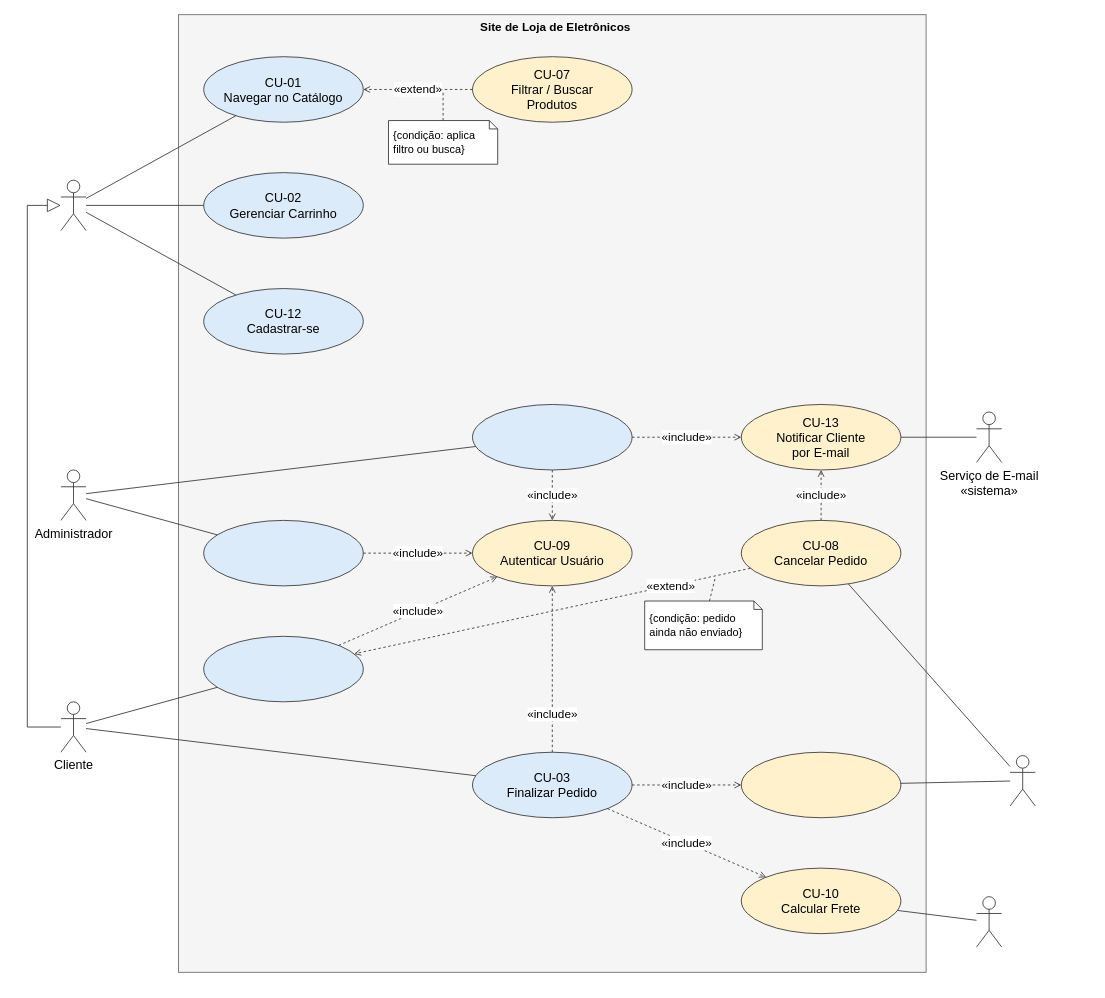
The diagram is 1105 pixels wide and 998 high, and some of its shapes have lost their labels. Here are the shapes that lost their labels. From the top down, the centre of each, then its label:
the point at 73,205: Visitante
the point at 552,437: CU-06 Gerenciar Pedidos
the point at 283,553: CU-05 Gerenciar Produtos e Estoque
the point at 283,668: CU-04 Consultar Pedidos
the point at 820,784: CU-11 Processar Pagamento
the point at 1022,780: Gateway de Pagamento «sistema»
the point at 989,921: Serviço de Frete «sistema»
